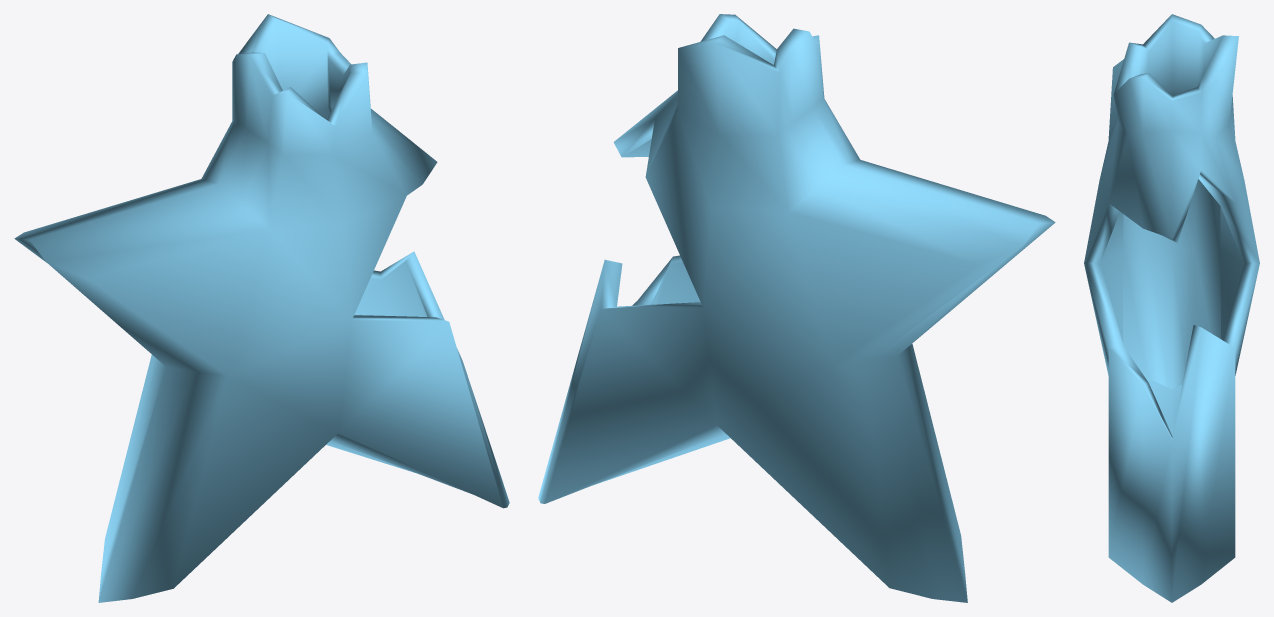
The model's file is BrokenFlaskStar.fbx.
3 renders of one model, left to right at view 1: azimuth 30°, elevation 25°; view 2: azimuth 150°, elevation 25°; view 3: azimuth 270°, elevation 25°, orthographic. The views are drawn at different scales.
Visible parts, largest first — view 1: BrokenFlaskStar; view 2: BrokenFlaskStar; view 3: BrokenFlaskStar.
Part boxes in pixels (x1=…): BrokenFlaskStar: x1=14, y1=14, x2=509, y2=602; BrokenFlaskStar: x1=538, y1=14, x2=1055, y2=602; BrokenFlaskStar: x1=1084, y1=14, x2=1259, y2=602.
Bounding box in the file's own units: 32.16 × 32.83 × 11.03.
